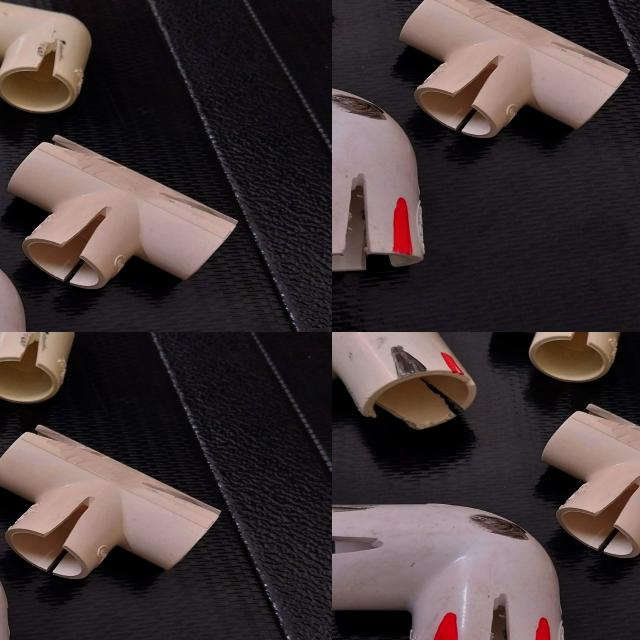Defective: (461, 513, 548, 549), (592, 476, 640, 534), (136, 358, 227, 385), (0, 608, 42, 640), (486, 596, 516, 640), (391, 345, 433, 376), (441, 344, 471, 379), (332, 536, 381, 555), (421, 619, 458, 640), (35, 332, 81, 346), (570, 332, 596, 353), (536, 623, 553, 640)
L Joint: (332, 500, 564, 640), (20, 332, 225, 420), (491, 332, 622, 383)
T Joint: (537, 396, 640, 563), (332, 332, 474, 432)
